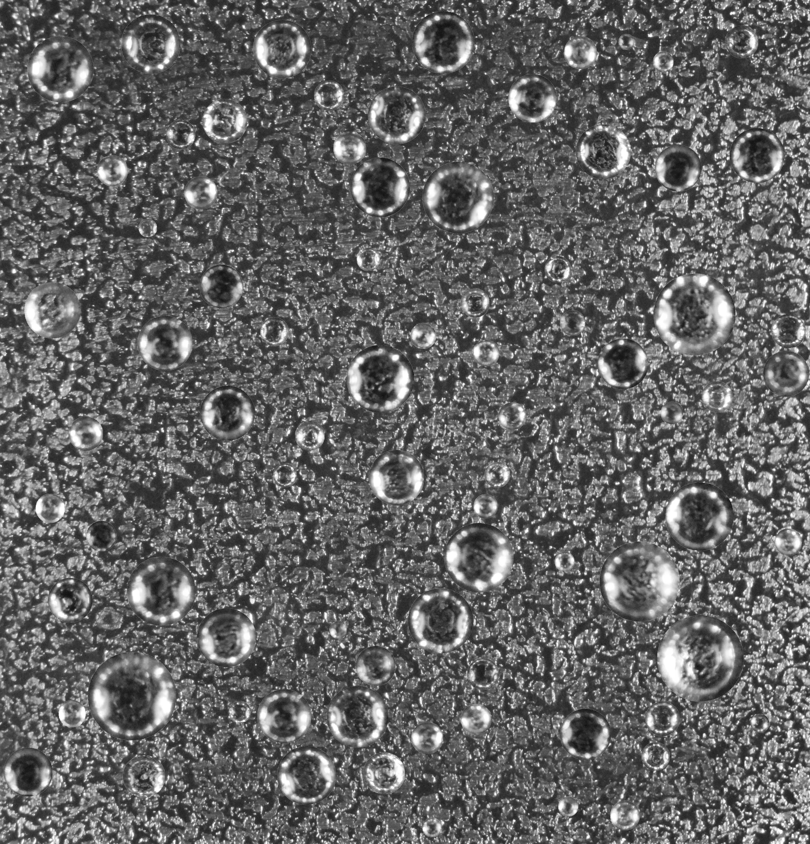Bubble: (87, 652, 176, 740), (657, 615, 743, 701), (653, 273, 735, 355), (599, 541, 679, 621), (422, 161, 493, 233), (444, 523, 513, 592), (126, 556, 195, 625), (665, 482, 733, 550), (346, 345, 414, 412), (27, 36, 93, 102), (408, 588, 473, 653), (412, 11, 474, 73), (326, 686, 388, 747), (350, 157, 409, 217), (121, 14, 180, 73), (253, 19, 311, 78), (197, 608, 255, 667), (277, 746, 335, 804), (368, 86, 425, 143), (24, 282, 80, 338), (369, 450, 424, 505), (137, 315, 192, 370), (729, 128, 784, 182), (576, 124, 630, 179), (200, 385, 254, 440), (257, 689, 311, 743), (560, 708, 611, 759), (597, 338, 648, 389), (3, 747, 52, 796), (508, 74, 556, 122), (655, 144, 701, 191), (763, 350, 809, 396), (202, 98, 247, 143), (47, 578, 92, 622), (199, 264, 243, 308), (122, 755, 165, 797), (363, 752, 404, 794), (355, 646, 395, 685), (645, 701, 679, 736), (771, 314, 805, 348), (68, 416, 102, 450), (333, 131, 366, 164), (725, 25, 758, 58), (184, 176, 217, 209), (564, 36, 596, 68), (411, 722, 443, 754), (701, 381, 732, 412), (96, 155, 127, 186), (467, 658, 498, 689), (460, 704, 491, 734), (314, 80, 344, 110), (86, 521, 116, 551), (610, 800, 639, 830), (166, 119, 195, 149), (295, 420, 324, 450), (35, 493, 64, 522), (460, 288, 489, 317), (641, 742, 669, 770), (260, 317, 288, 345), (498, 402, 526, 429), (774, 528, 802, 555), (58, 700, 85, 727), (473, 339, 499, 366), (544, 256, 571, 282), (410, 323, 436, 348), (484, 462, 510, 487), (560, 310, 585, 335), (473, 494, 497, 518), (273, 463, 296, 487), (660, 401, 683, 424), (356, 247, 379, 270), (228, 701, 250, 722), (653, 51, 673, 72), (558, 796, 578, 816), (554, 551, 574, 571), (422, 817, 441, 837), (750, 714, 769, 732), (138, 218, 156, 237), (329, 621, 346, 638), (618, 33, 634, 49)
